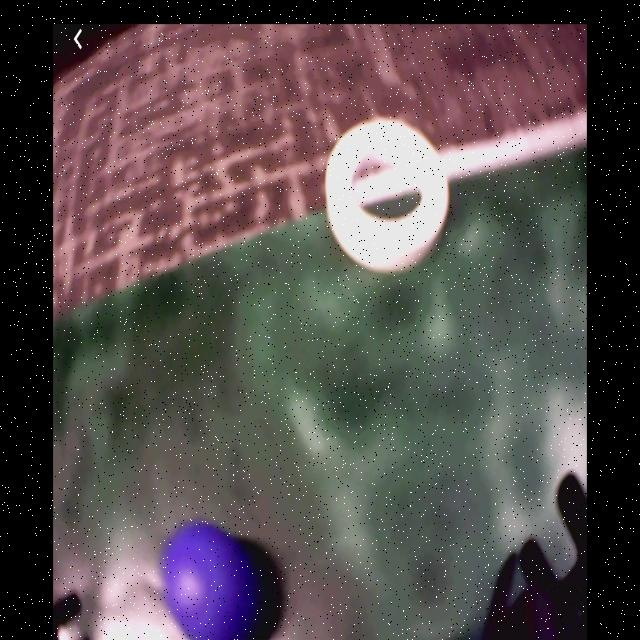ball: (162, 521, 258, 640)
